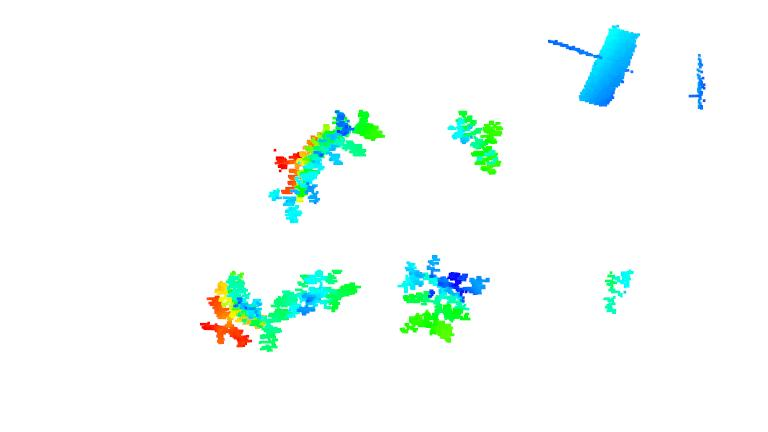chickpea: (266, 106, 389, 223), (395, 252, 492, 344), (196, 266, 277, 357), (270, 265, 359, 321), (446, 107, 504, 178), (599, 262, 637, 321)
